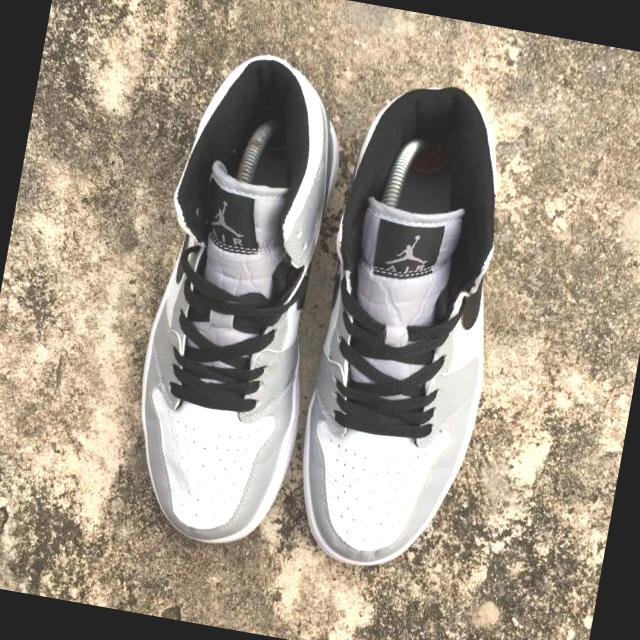nike_fake_jordan: (109, 40, 369, 561), (272, 74, 534, 588)
